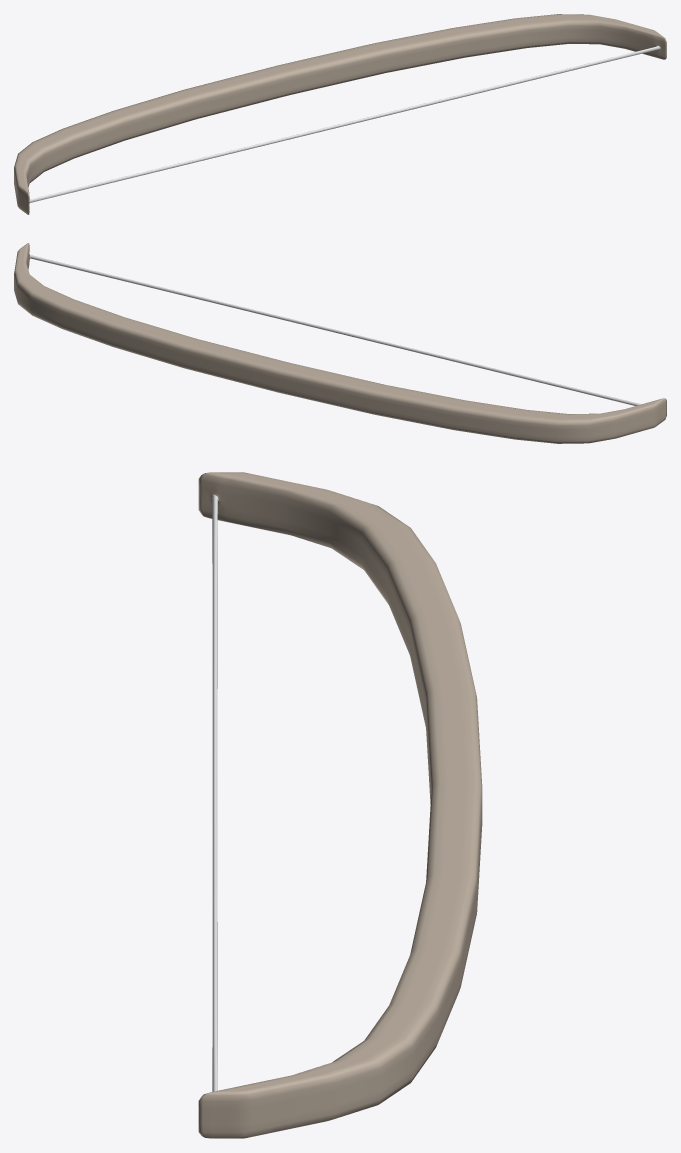
The model's file is bow.fbx.
3 views of the same model, one above another, from view 1: azimuth 30°, elevation 25°; view 2: azimuth 150°, elevation 25°; view 3: azimuth 270°, elevation 25° (orthographic). The views are drawn at different scales.
Parts seen in each view (by area): view 1: pCube1; view 2: pCube1; view 3: pCube1.
Boxes of the visible parts, box(x1,y1,x2,y2) form: pCube1: box(14, 14, 666, 214); pCube1: box(14, 243, 666, 443); pCube1: box(198, 472, 482, 1138).
Size of the model in its own units: 28.88 by 1 by 5.56.
